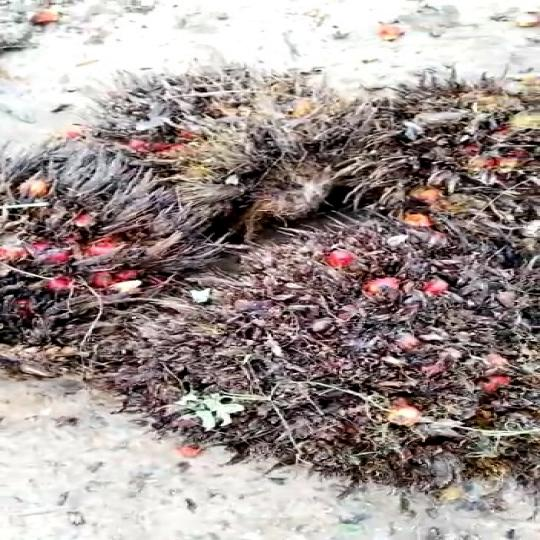terlalu masak: (89, 213, 540, 468), (0, 144, 247, 348)
